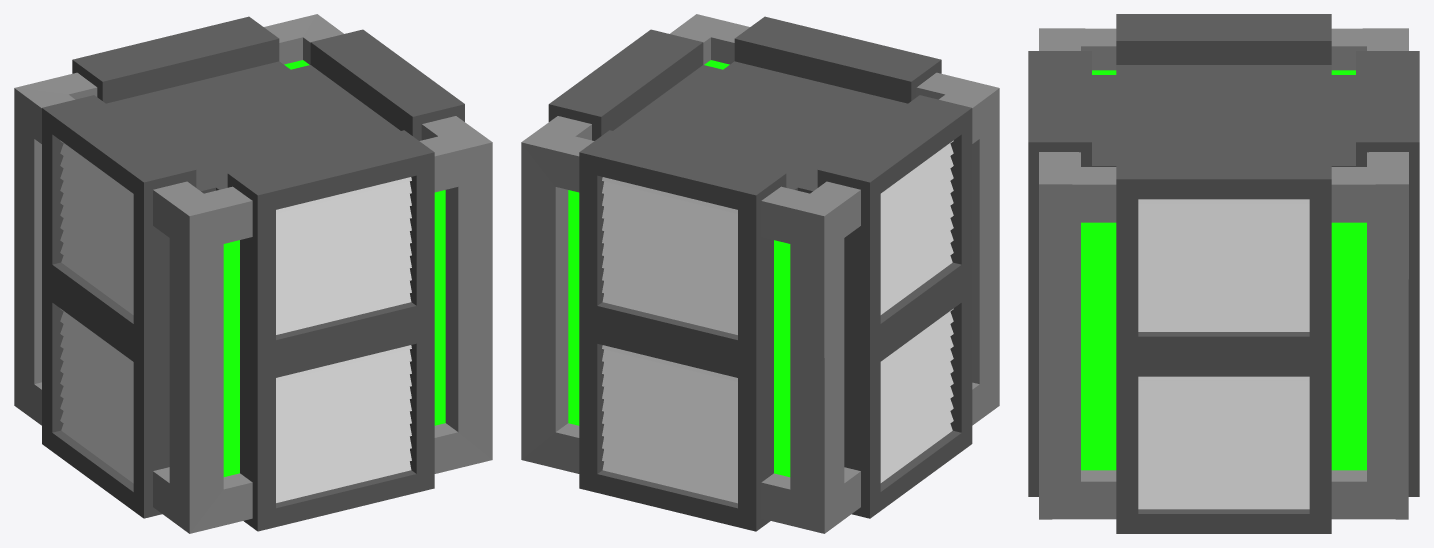
File: Building_Deco_01_B.FBX
The picture shows the model from 3 angles, left to right: view 1: azimuth 30°, elevation 25°; view 2: azimuth 150°, elevation 25°; view 3: azimuth 270°, elevation 25°; orthographic projection. The views are drawn at different scales.
Parts seen in each view (by area): view 1: Building_Deco_01_B_LOD0; view 2: Building_Deco_01_B_LOD0; view 3: Building_Deco_01_B_LOD0.
Boxes of the visible parts, bbox=[...] form: Building_Deco_01_B_LOD0: bbox=[14, 14, 492, 533]; Building_Deco_01_B_LOD0: bbox=[521, 14, 999, 533]; Building_Deco_01_B_LOD0: bbox=[1028, 14, 1419, 533].
Size of what is drawn, in the model's own units: 104 by 104 by 104.
